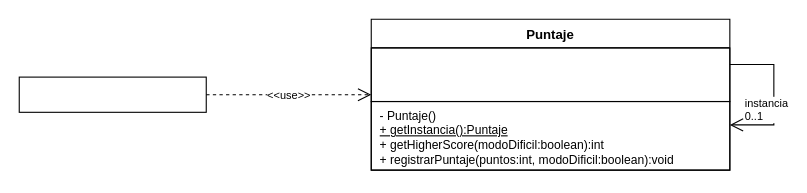
Image size: 807x193. Some labels were removed from this diagram. Each missing label, with the centre of its shape:
- instancia: Puntaje - higherScoreFacil: int - higherScoreDificil: int: [550,74]
GameScreen: [112,94]
